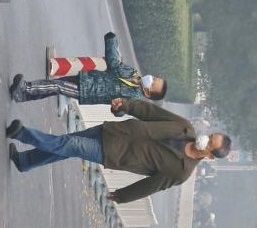person: (7, 98, 233, 207), (10, 34, 166, 106), (193, 191, 217, 208), (195, 160, 217, 178), (194, 176, 218, 192), (193, 209, 216, 225)
